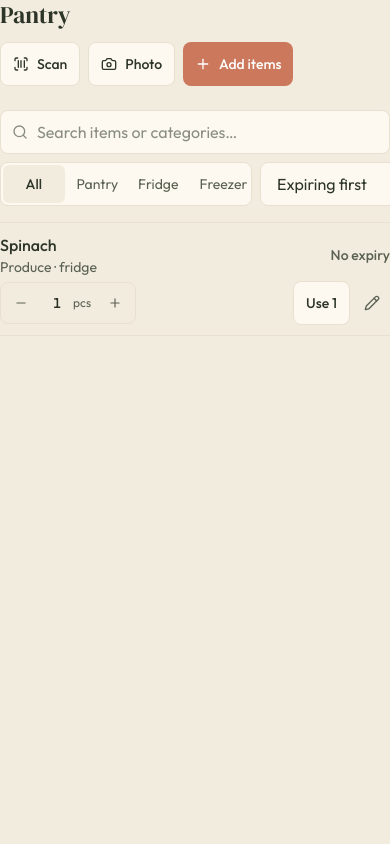
Test: asks before marking an item wasted and offers a date from the storage guidance
The width and height of the screenshot is (390, 844).
Click the button named "Edit": click(372, 303) left=354, top=281, right=389, bottom=325
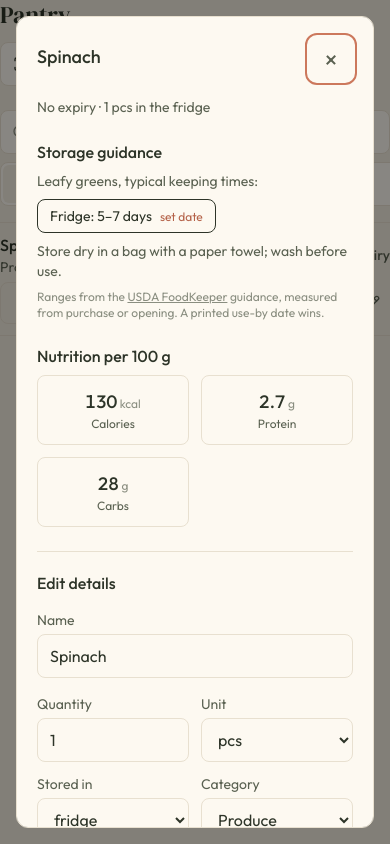
Result: the text "Leafy greens, typical keeping times:" is shown at left=37, top=172, right=258, bottom=190
Click the button "set date": click(181, 217) left=160, top=209, right=203, bottom=225
(page scrolled)
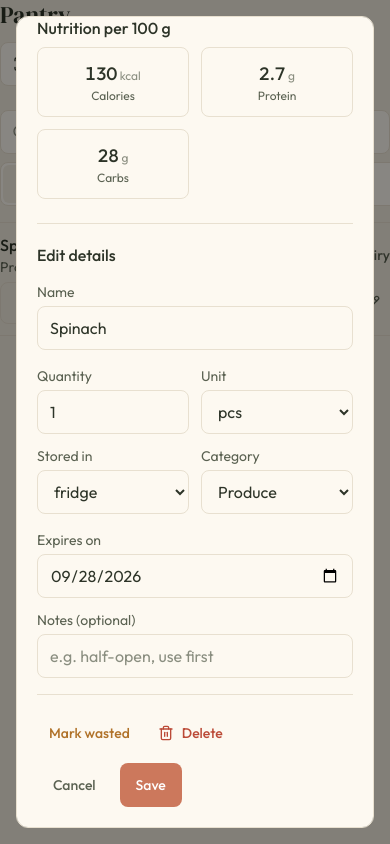
Click the button "Mark wasted": click(89, 733) left=37, top=711, right=142, bottom=755
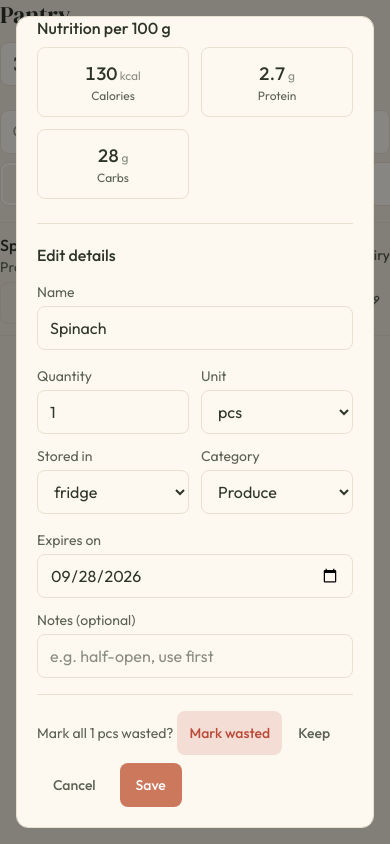
Result: the text "Mark all 1 pcs wasted?" is shown at left=37, top=723, right=173, bottom=743
Click the button "Keep": click(314, 733) left=286, top=711, right=342, bottom=755
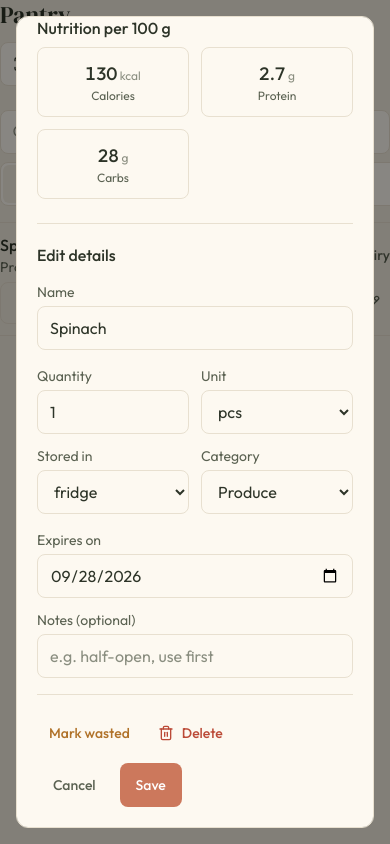
Result: the text "Mark all 1 pcs wasted?" is gone
